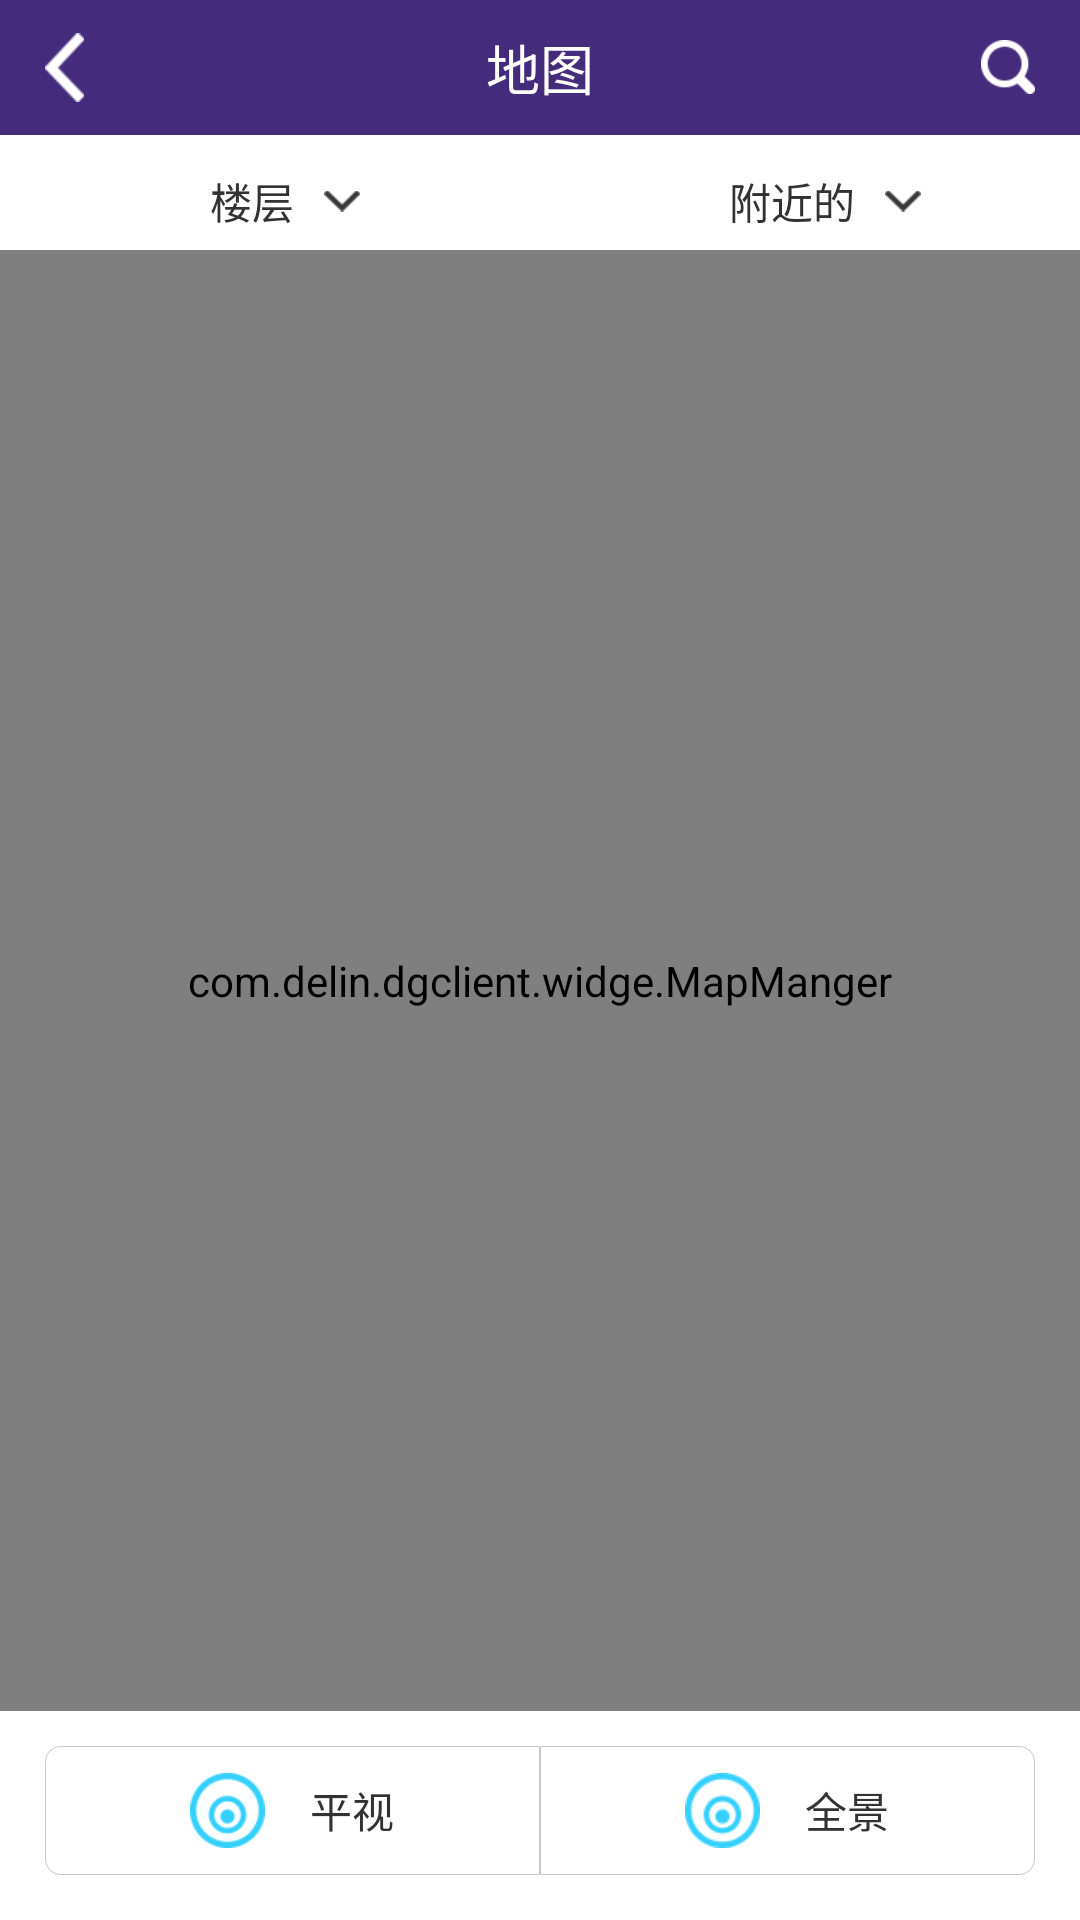

Screen size 1080px×1920px. Icon name, then its center in pixels as (x=x, y=y):
arraw down: (x=342, y=201), (x=903, y=201)
